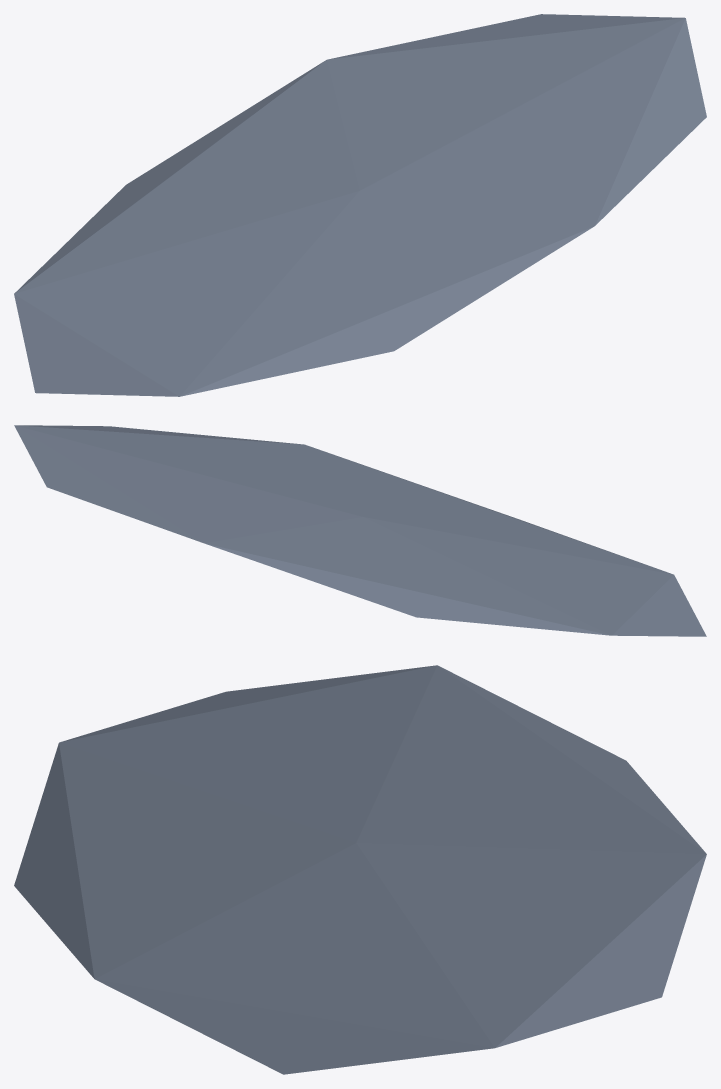
Rendered from EXTC_Paver_01.glb.
The picture shows the model from 3 angles, top to bottom: view 1: azimuth 30°, elevation 25°; view 2: azimuth 150°, elevation 25°; view 3: azimuth 270°, elevation 25°; orthographic projection. The views are drawn at different scales.
Parts seen in each view (by area): view 1: EXTC_Paver_01; view 2: EXTC_Paver_01; view 3: EXTC_Paver_01.
Part boxes in pixels (left/top/right/bottom): EXTC_Paver_01: left=14, top=14, right=706, bottom=396; EXTC_Paver_01: left=14, top=425, right=706, bottom=636; EXTC_Paver_01: left=14, top=665, right=706, bottom=1074.
Size of the model in its own units: 1.59 by 0.2758 by 0.8211.
